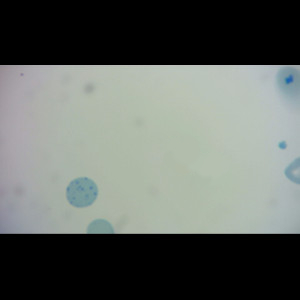aggregate reticulocyte: (64, 176, 99, 209)
